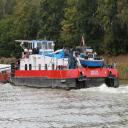tugboat: (9, 38, 122, 93)
